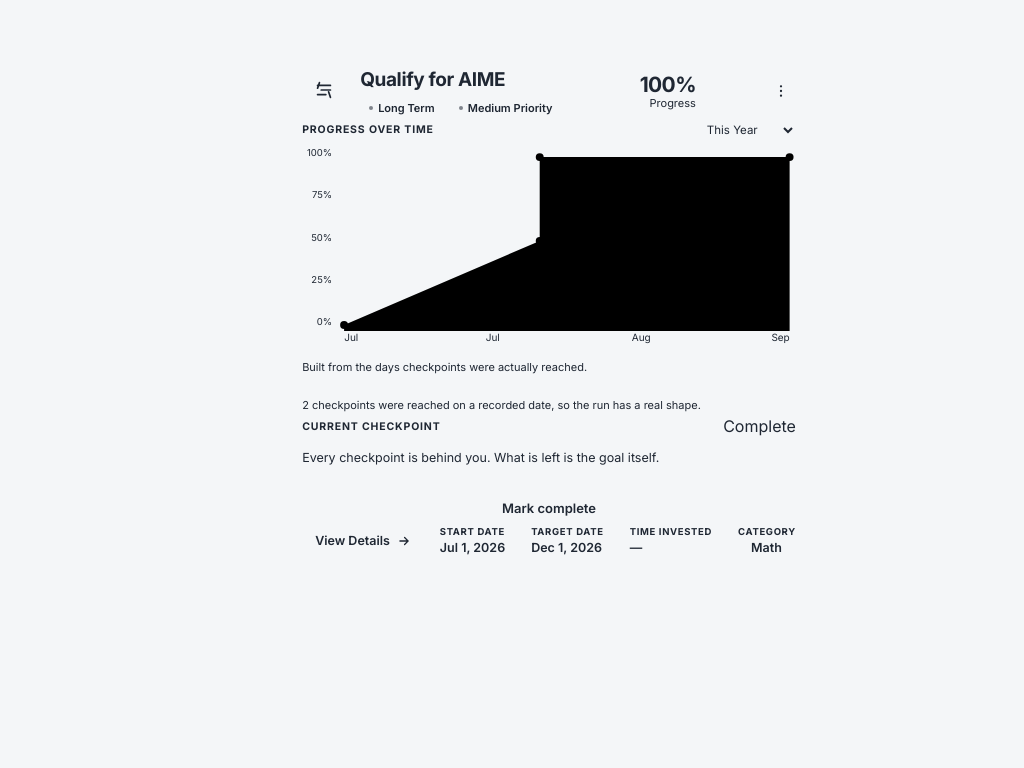
marking a goal complete › offers it quietly, and asks before doing anything
The image size is (1024, 768).
Click the button "Mark complete": point(549, 508) [302,490,796,526]
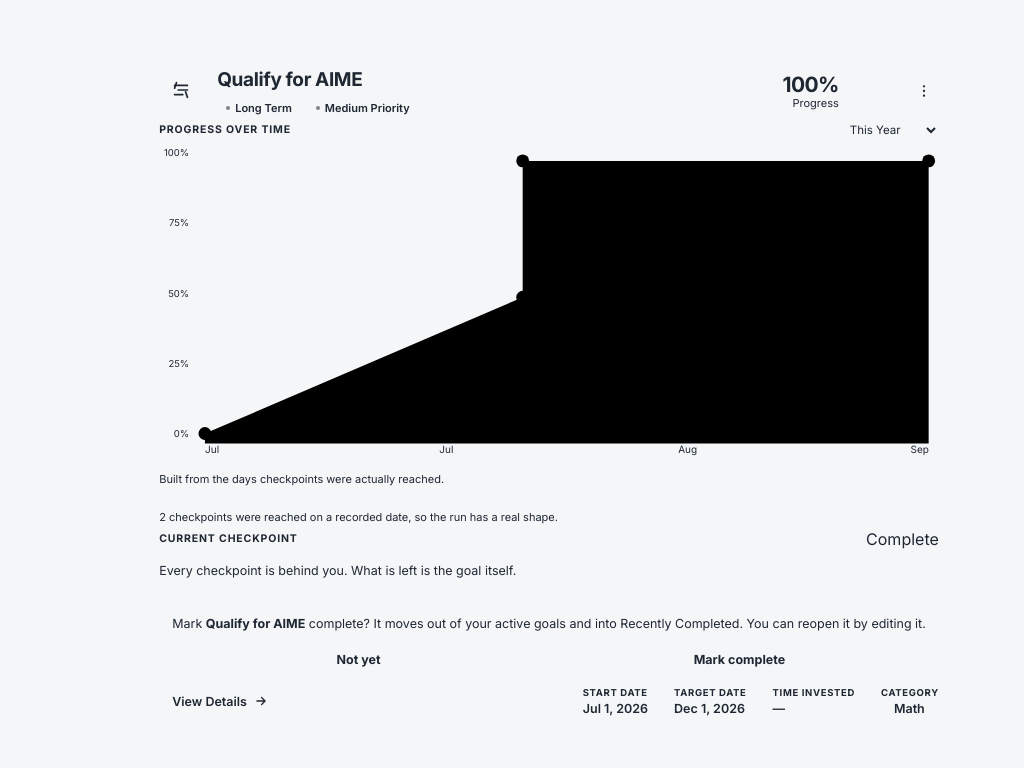
Result: the element named "Mark this goal complete" is shown at [159,603,939,687]
